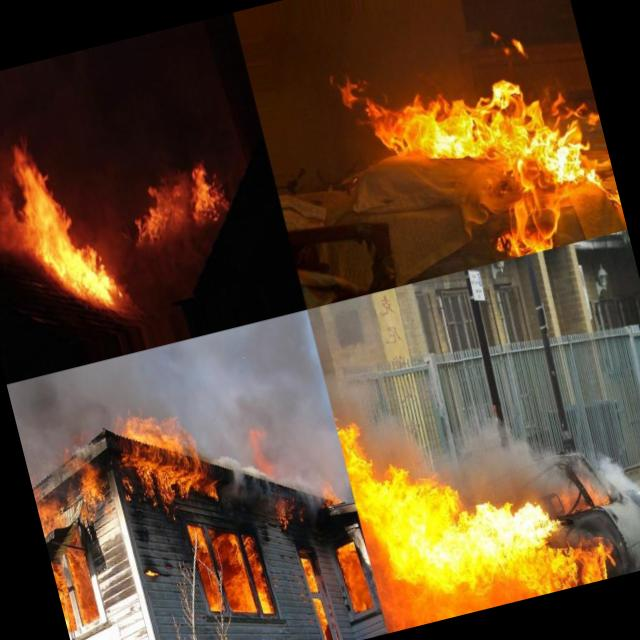fire: (329, 14, 624, 290), (358, 458, 609, 633), (332, 391, 448, 511), (119, 157, 236, 257), (181, 515, 274, 637), (114, 409, 217, 512), (24, 438, 114, 552), (0, 124, 78, 254), (36, 234, 125, 320), (241, 424, 300, 530), (49, 547, 107, 640), (326, 530, 380, 622), (289, 541, 337, 640), (313, 464, 351, 519)
smoke: (422, 373, 578, 492), (306, 290, 406, 410), (266, 369, 345, 477), (584, 421, 640, 531), (0, 179, 24, 262)
